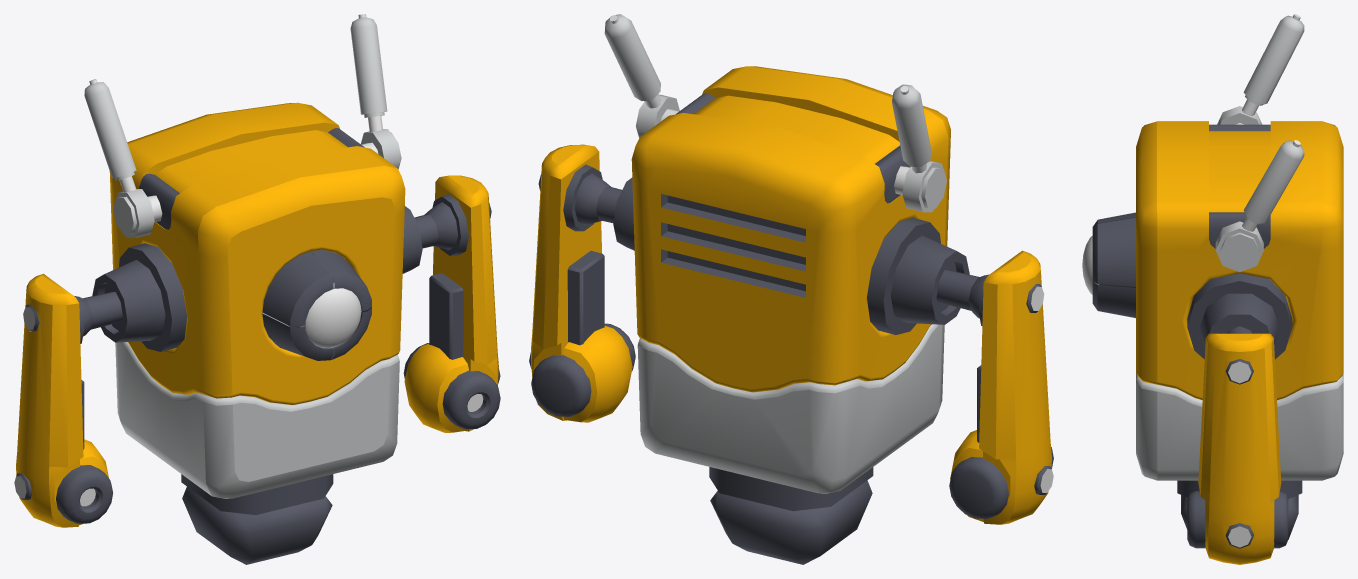
File: CripLit.fbx
3 views of the same model, side by side, from view 1: azimuth 30°, elevation 25°; view 2: azimuth 150°, elevation 25°; view 3: azimuth 270°, elevation 25° (orthographic). The views are drawn at different scales.
Visible parts, largest first — view 1: CripLit_Body, CripLit_FistRight, CripLit_FistLeft, CripLit_Down, CripLit_HandRight, CripLit_AntennaRight, CripLit_AntennaLeft, CripLit_HandLeft; view 2: CripLit_Body, CripLit_FistRight, CripLit_FistLeft, CripLit_Down, CripLit_HandRight, CripLit_AntennaRight, CripLit_AntennaLeft, CripLit_HandLeft; view 3: CripLit_Body, CripLit_FistLeft, CripLit_AntennaLeft, CripLit_AntennaRight, CripLit_HandLeft, CripLit_Down.
Part boxes in pixels (x1,y1,x2,y2): CripLit_Body: (109, 102, 405, 514); CripLit_FistRight: (14, 273, 112, 527); CripLit_FistLeft: (403, 175, 500, 432); CripLit_Down: (182, 487, 332, 564); CripLit_HandRight: (74, 260, 165, 342); CripLit_AntennaRight: (84, 79, 162, 238); CripLit_AntennaLeft: (350, 14, 401, 169); CripLit_HandLeft: (402, 202, 457, 273); CripLit_Body: (631, 66, 950, 511); CripLit_FistRight: (949, 250, 1053, 524); CripLit_FistLeft: (529, 144, 635, 422); CripLit_Down: (710, 480, 872, 564); CripLit_HandRight: (890, 235, 989, 324); CripLit_AntennaRight: (892, 84, 946, 212); CripLit_AntennaLeft: (604, 14, 679, 137); CripLit_HandLeft: (575, 173, 634, 250); CripLit_Body: (1082, 121, 1343, 498); CripLit_FistLeft: (1187, 333, 1288, 564); CripLit_AntennaLeft: (1215, 140, 1304, 272); CripLit_AntennaRight: (1217, 14, 1304, 124); CripLit_HandLeft: (1199, 293, 1279, 343); CripLit_Down: (1181, 495, 1298, 539).
Bounding box in the file's own units: 505 × 489 × 251.
